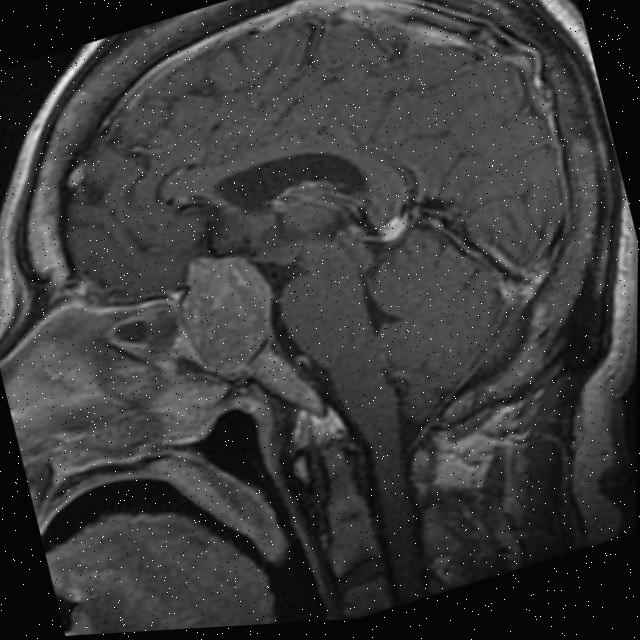Pituitary: (168, 236, 288, 386)
